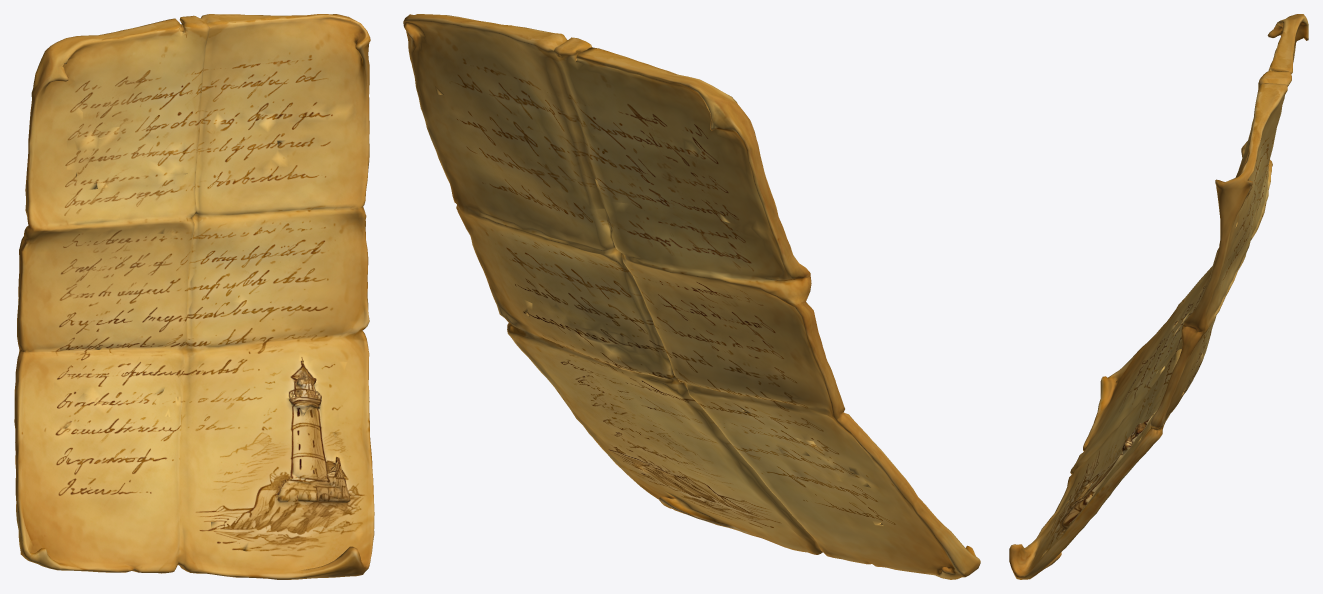
Rendered from journal_page.glb.
3 renders of one model, left to right at view 1: azimuth 30°, elevation 25°; view 2: azimuth 150°, elevation 25°; view 3: azimuth 270°, elevation 25°, orthographic. The views are drawn at different scales.
Visible parts, largest first — view 1: tripo_node_962b77c0-719d-430f-828f-4350df814d91; view 2: tripo_node_962b77c0-719d-430f-828f-4350df814d91; view 3: tripo_node_962b77c0-719d-430f-828f-4350df814d91.
Boxes of the visible parts, <box> form: tripo_node_962b77c0-719d-430f-828f-4350df814d91: <box>14,14,374,579</box>; tripo_node_962b77c0-719d-430f-828f-4350df814d91: <box>403,14,980,579</box>; tripo_node_962b77c0-719d-430f-828f-4350df814d91: <box>1009,14,1308,579</box>.
Size of the model in its own units: 0.8585 by 0.9771 by 0.545.
Materials: 1 (1 with a texture image).
